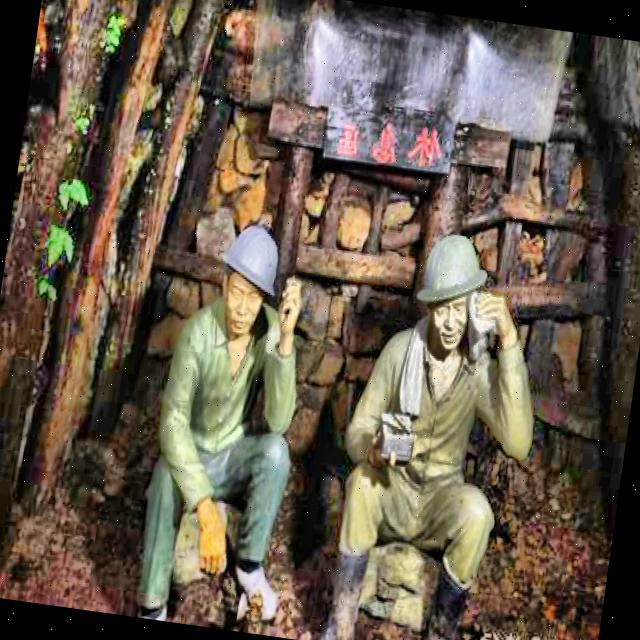helmet: (408, 225, 494, 353), (207, 214, 291, 345)
